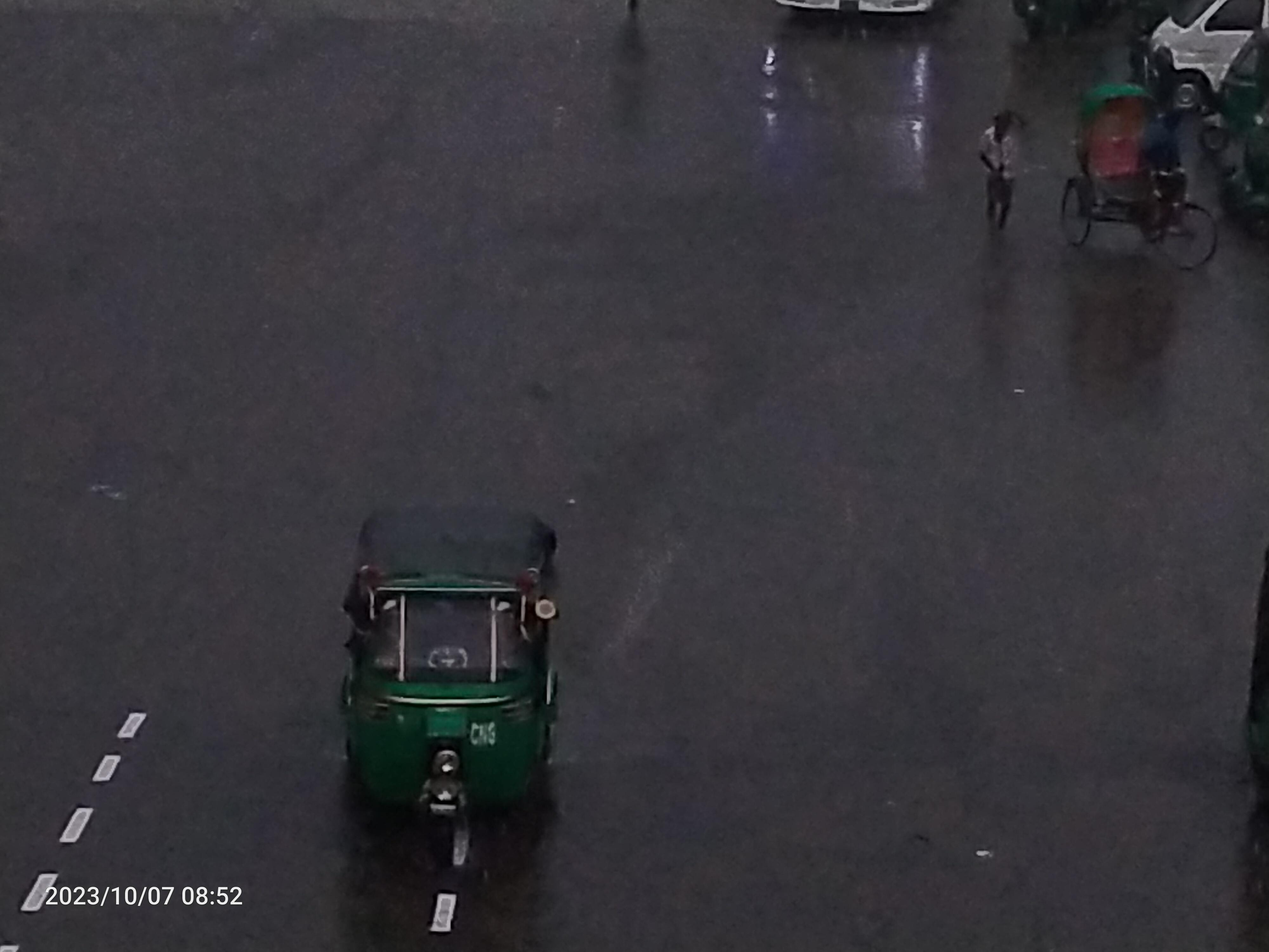Car: (1038, 57, 1219, 281)
